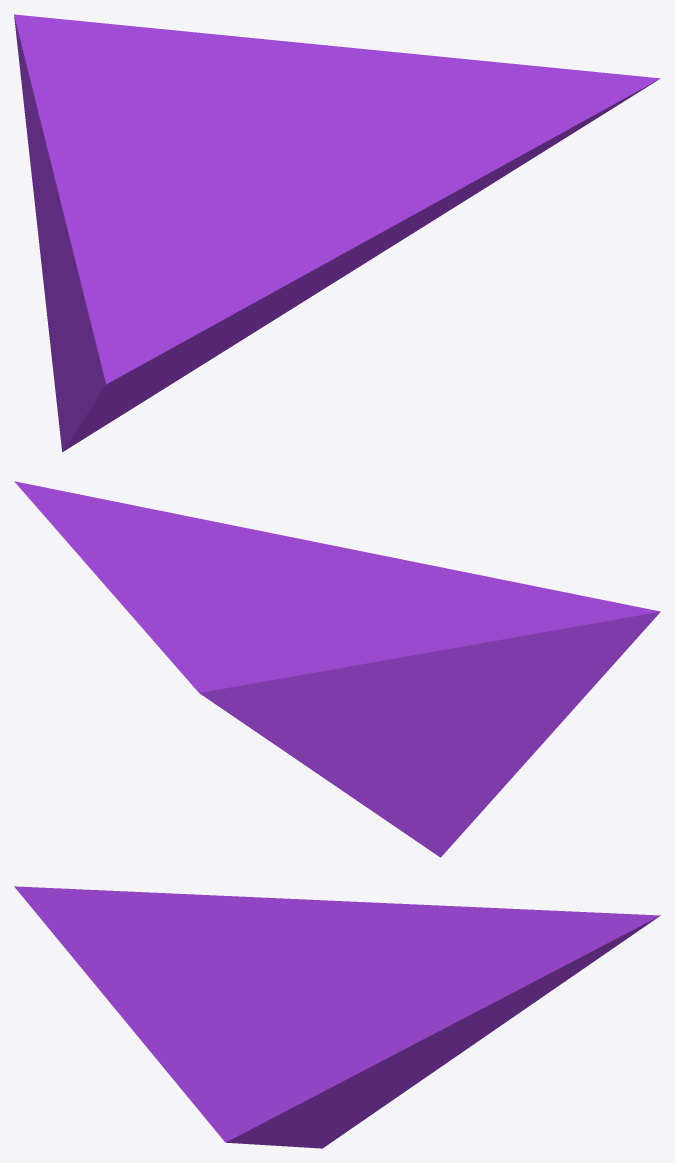
File: Glass_100_2_3_chunks.fbx
3 renders of one model, top to bottom at view 1: azimuth 30°, elevation 25°; view 2: azimuth 150°, elevation 25°; view 3: azimuth 270°, elevation 25°, orthographic. The views are drawn at different scales.
Visible parts, largest first — view 1: Glass_100_2_3_0; view 2: Glass_100_2_3_0; view 3: Glass_100_2_3_0.
Part boxes in pixels (x1,y1,x2,y2): Glass_100_2_3_0: (14, 14, 660, 451); Glass_100_2_3_0: (14, 481, 660, 857); Glass_100_2_3_0: (14, 886, 660, 1148).
Bounding box in the file's own units: 92.36 × 38.48 × 77.32.
